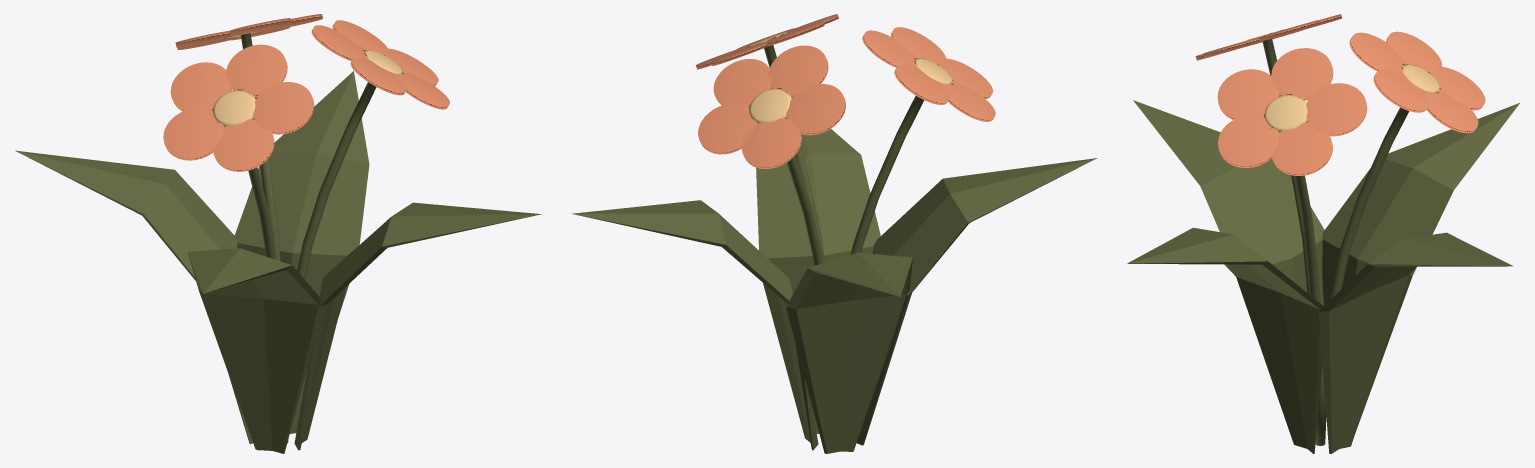
Rendered from Assets.fbx_Flower_Lachs.fbx.
3 renders of one model, left to right at view 1: azimuth 30°, elevation 25°; view 2: azimuth 150°, elevation 25°; view 3: azimuth 270°, elevation 25°, orthographic.
Visible parts, largest first — view 1: Blatt.050, Blatt.048, Blatt.049, Blatt.047, Blume.007, Cylinder.048, Cylinder.050, Cylinder.052, Cylinder.049, Cylinder.051, Blume.006, Cylinder.061 (+5 smaller); view 2: Blatt.049, Blatt.047, Blatt.050, Blatt.048, Cylinder.054, Blume.006, Cylinder.053, Blume.008, Cylinder.055, Cylinder.057, Cylinder.056, Cylinder.051 (+5 smaller); view 3: Blatt.048, Blatt.047, Blatt.049, Blatt.050, Blume.008, Blume.007, Cylinder.058, Cylinder.060, Cylinder.062, Cylinder.059, Cylinder.061, Cylinder.056 (+5 smaller).
Part boxes in pixels (x1=…): Blatt.050: x1=187, y1=248, x2=322, y2=453; Blatt.048: x1=234, y1=71, x2=369, y2=433; Blatt.049: x1=15, y1=150, x2=252, y2=444; Blatt.047: x1=294, y1=202, x2=541, y2=450; Blume.007: x1=287, y1=50, x2=404, y2=442; Cylinder.048: x1=253, y1=82, x2=314, y2=134; Cylinder.050: x1=163, y1=108, x2=224, y2=160; Cylinder.052: x1=226, y1=44, x2=287, y2=97; Cylinder.049: x1=213, y1=119, x2=274, y2=171; Cylinder.051: x1=170, y1=62, x2=231, y2=111; Blume.006: x1=212, y1=89, x2=288, y2=442; Cylinder.061: x1=350, y1=57, x2=406, y2=95; Blatt.049: x1=786, y1=252, x2=912, y2=453; Blatt.047: x1=756, y1=88, x2=880, y2=433; Blatt.050: x1=856, y1=158, x2=1097, y2=445; Blatt.048: x1=571, y1=200, x2=818, y2=450; Cylinder.054: x1=742, y1=118, x2=801, y2=168; Blume.006: x1=851, y1=58, x2=953, y2=254; Cylinder.053: x1=786, y1=84, x2=845, y2=135; Blume.008: x1=749, y1=87, x2=823, y2=265; Cylinder.055: x1=698, y1=103, x2=757, y2=154; Cylinder.057: x1=768, y1=45, x2=828, y2=96; Cylinder.056: x1=713, y1=59, x2=772, y2=107; Cylinder.051: x1=894, y1=64, x2=949, y2=104; Blatt.048: x1=1318, y1=232, x2=1513, y2=453; Blatt.047: x1=1127, y1=227, x2=1323, y2=453; Blatt.049: x1=1322, y1=103, x2=1519, y2=424; Blatt.050: x1=1133, y1=100, x2=1324, y2=305; Blume.008: x1=1322, y1=64, x2=1440, y2=445; Blume.007: x1=1264, y1=94, x2=1323, y2=445; Cylinder.058: x1=1306, y1=83, x2=1367, y2=136; Cylinder.060: x1=1218, y1=115, x2=1279, y2=168; Cylinder.062: x1=1271, y1=48, x2=1333, y2=100; Cylinder.059: x1=1271, y1=123, x2=1332, y2=175; Cylinder.061: x1=1217, y1=69, x2=1279, y2=119; Cylinder.056: x1=1373, y1=69, x2=1429, y2=112.
Size of the model in its own units: 19.81 by 22.64 by 19.81.
